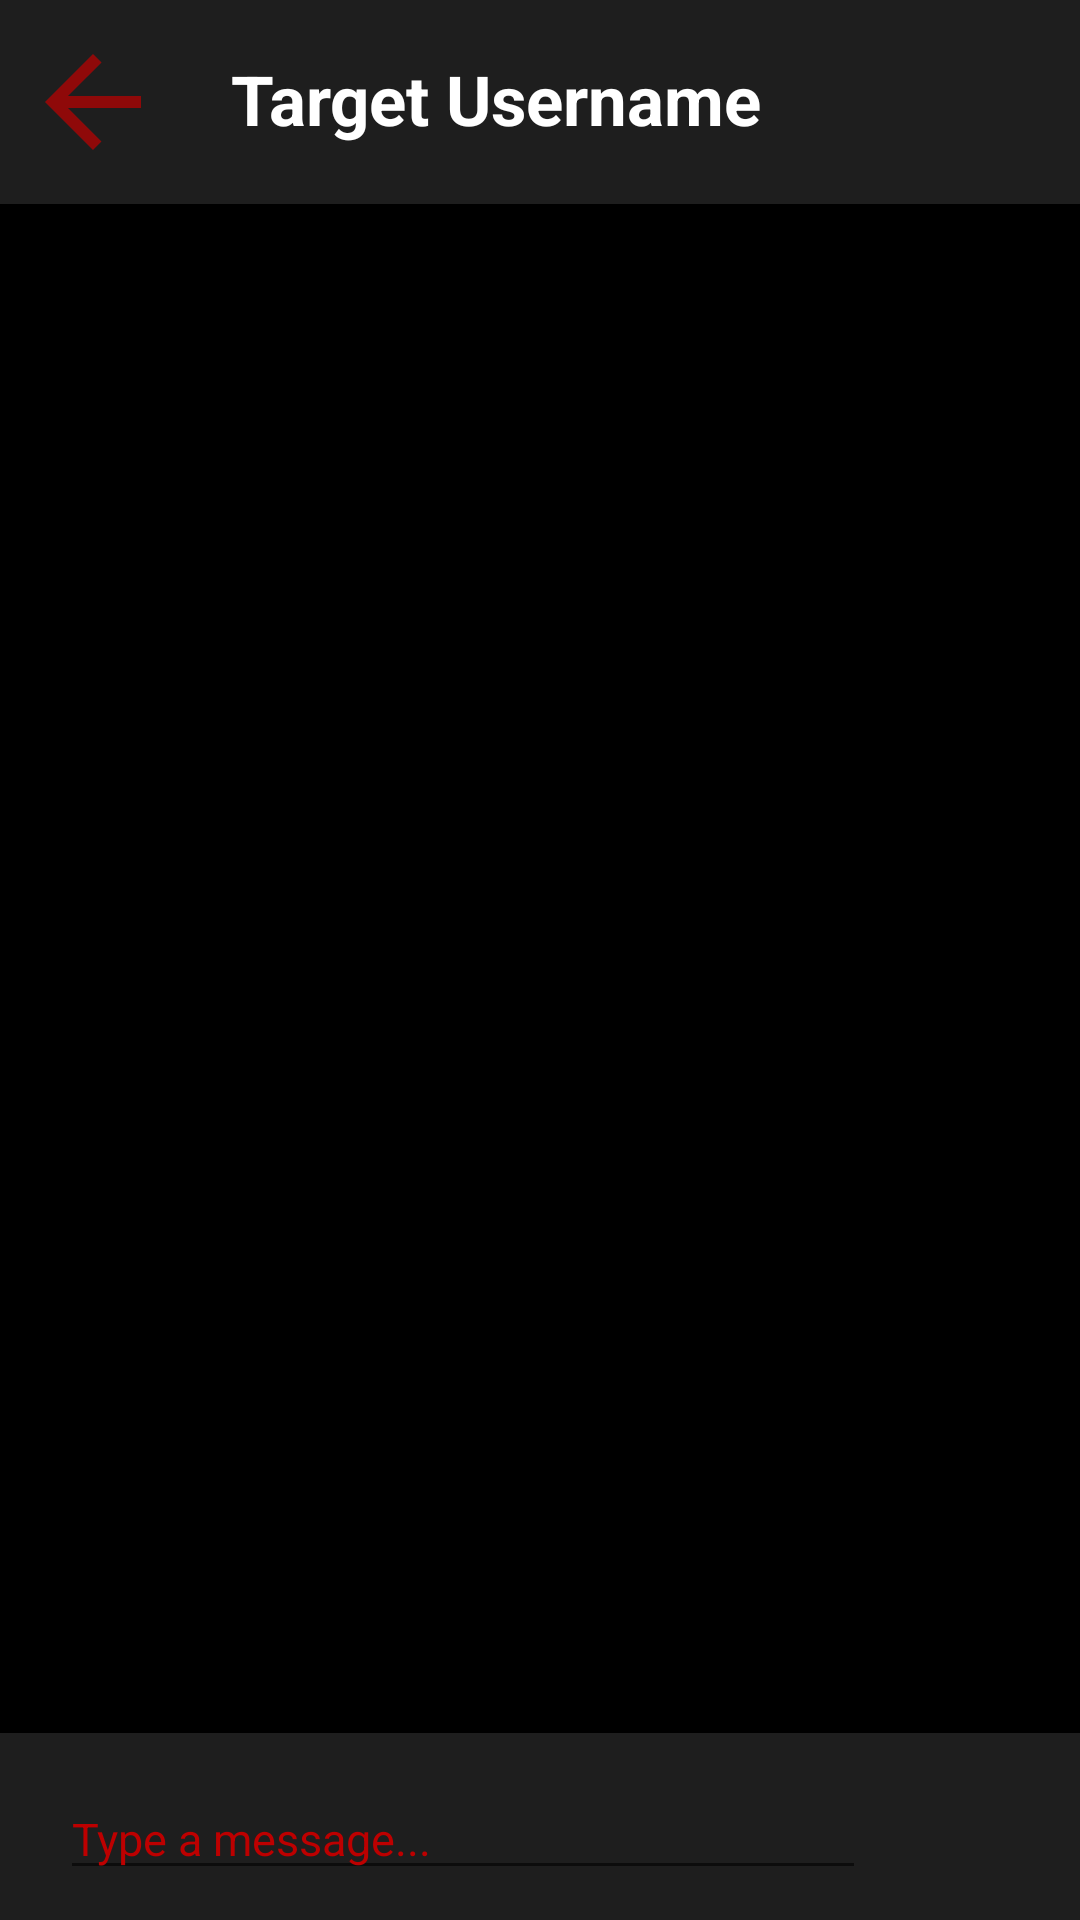

Where to tap for icons on this 1080w x 1920h app screen, as [x,y]:
back button: [93,102]
